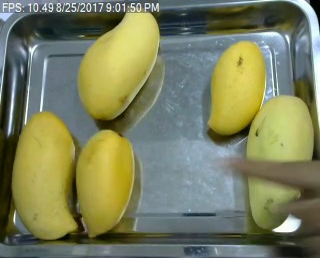Mango: (77, 3, 161, 124), (244, 92, 313, 230), (10, 110, 79, 239), (74, 127, 134, 240), (203, 40, 266, 136)
